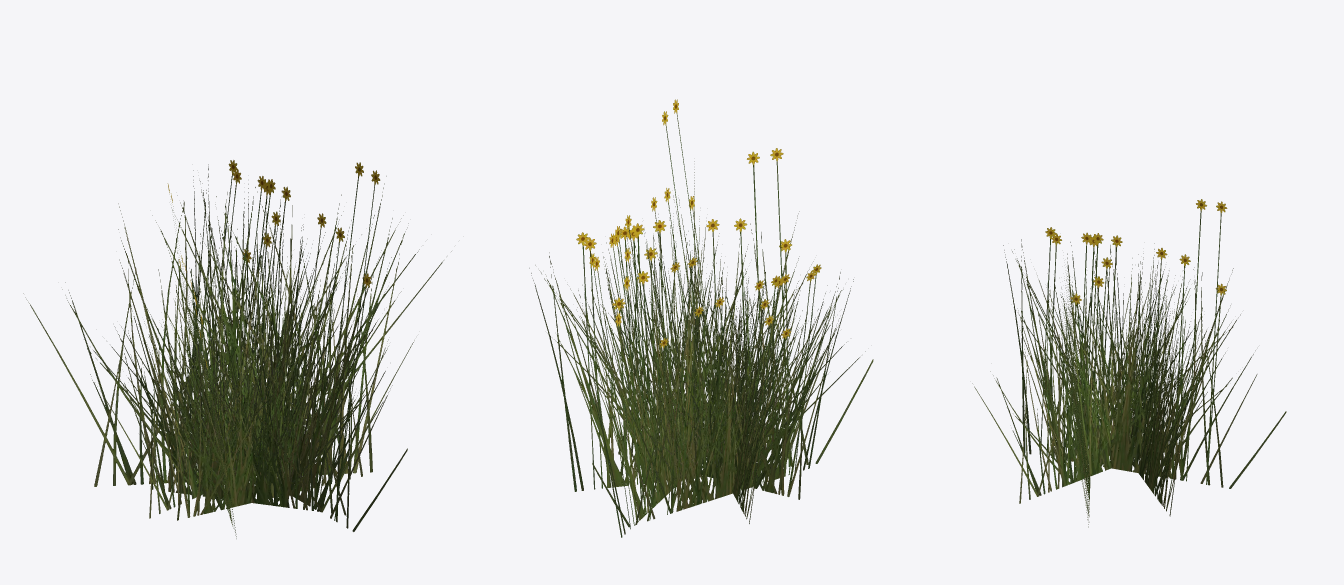
The model's file is grass-clump.glb.
3 views of the same model, side by side, from view 1: azimuth 30°, elevation 25°; view 2: azimuth 150°, elevation 25°; view 3: azimuth 270°, elevation 25° (orthographic). The views are drawn at different scales.
Visible parts, largest first — view 1: grass_clump_grass; view 2: grass_clump_grass; view 3: grass_clump_grass.
Boxes of the visible parts, x1,y1,x2,y2 form: grass_clump_grass: [23, 160, 451, 538]; grass_clump_grass: [529, 99, 873, 537]; grass_clump_grass: [972, 199, 1286, 527].
Size of the model in its own units: 0.6462 by 0.6623 by 0.627.
1 material, 1 textured.
